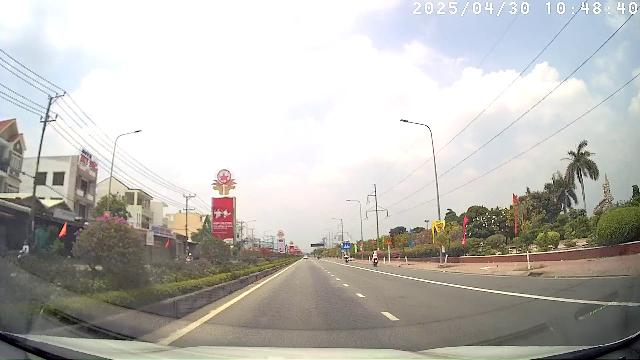420-bat-dau-khu-dong-dan-cu: (344, 243, 351, 249)
